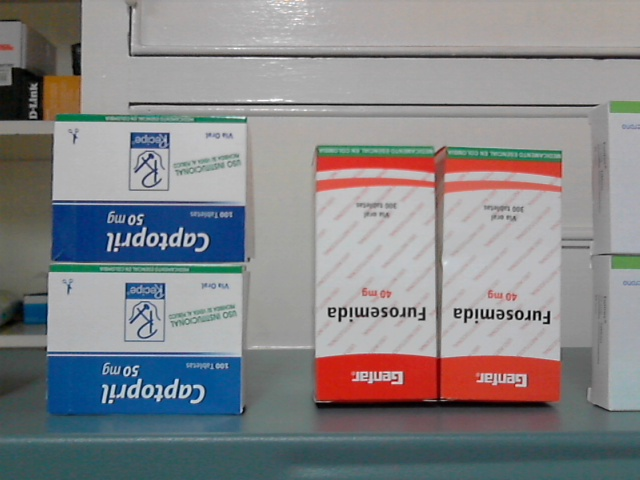Genfar: (315, 148, 436, 402), (442, 148, 560, 402)
